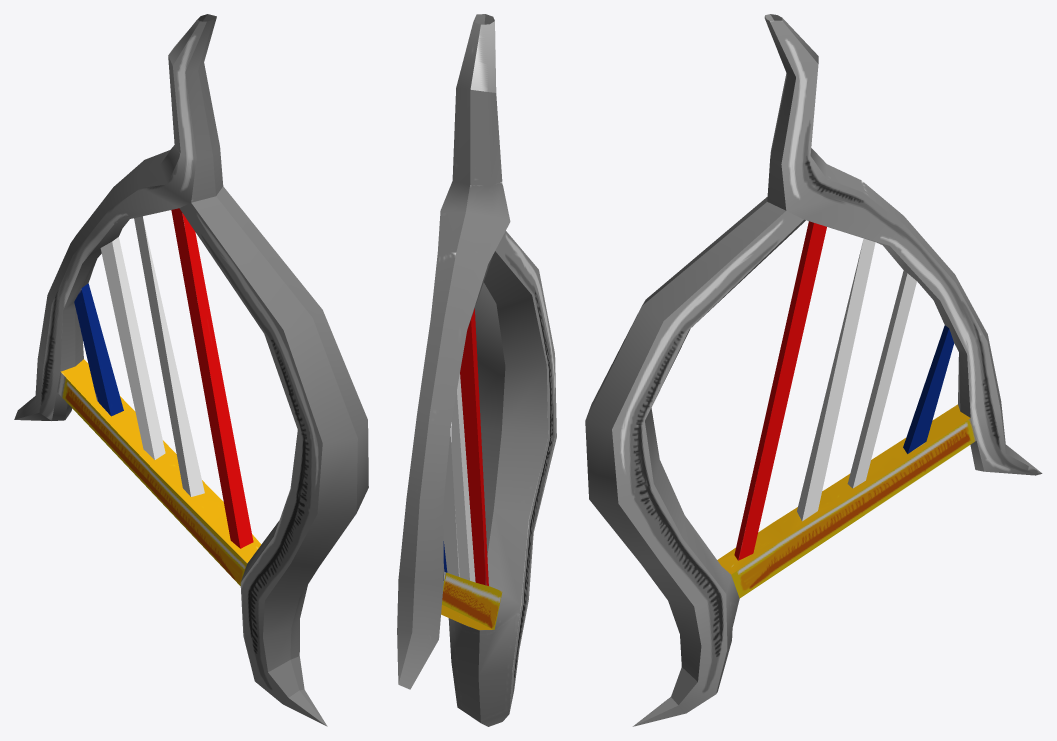
The model's file is Arpa1_000016.obj.
3 views of the same model, side by side, from view 1: azimuth 30°, elevation 25°; view 2: azimuth 150°, elevation 25°; view 3: azimuth 270°, elevation 25° (orthographic). The views are drawn at different scales.
Visible parts, largest first — view 1: a1_pCube7.001; view 2: a1_pCube7.001; view 3: a1_pCube7.001.
Boxes of the visible parts, left/top/right/bottom form: a1_pCube7.001: left=14, top=14, right=368, bottom=726; a1_pCube7.001: left=397, top=14, right=556, bottom=726; a1_pCube7.001: left=585, top=14, right=1042, bottom=726.
Size of the model in its own units: 2.45 by 10.49 by 6.36.
